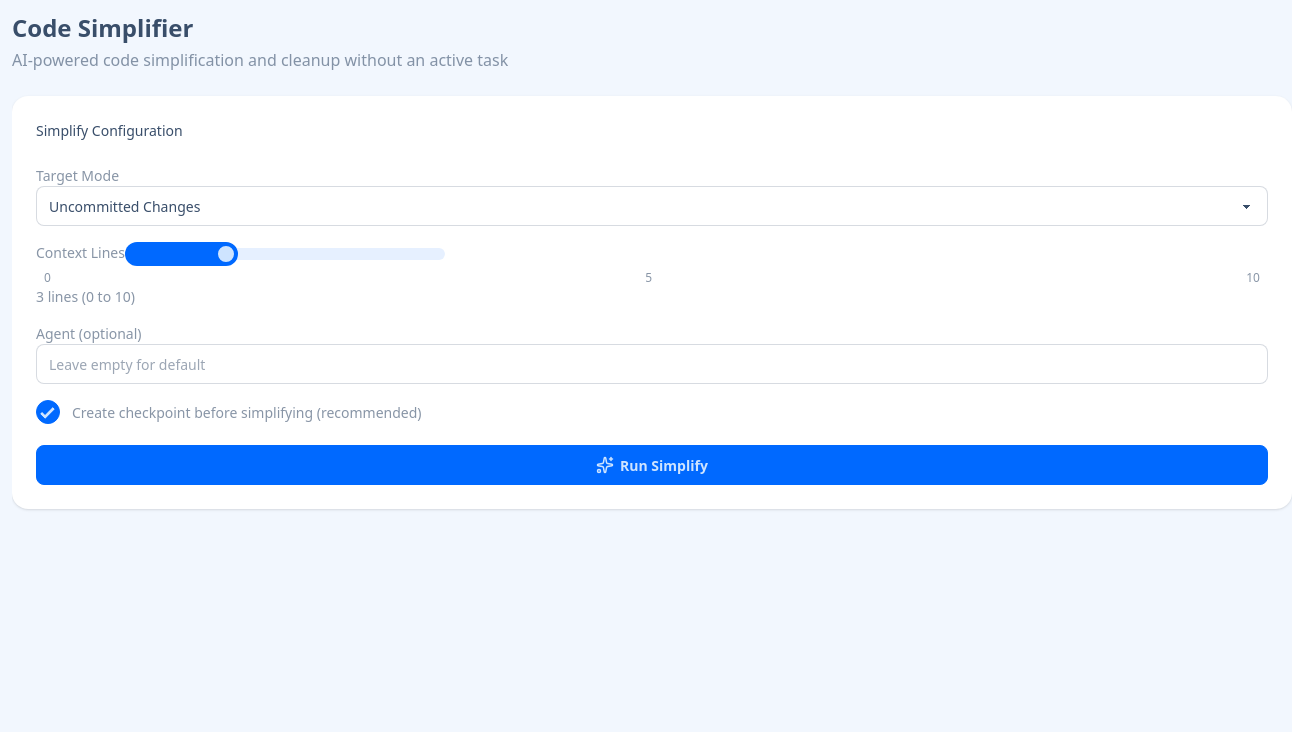
Scenario: Simplify page › shows files textarea when files mode is selected
The width and height of the screenshot is (1292, 732).
Select "Specific Files" in the dropdown. click: (652, 206)
box: [36, 186, 1268, 226]
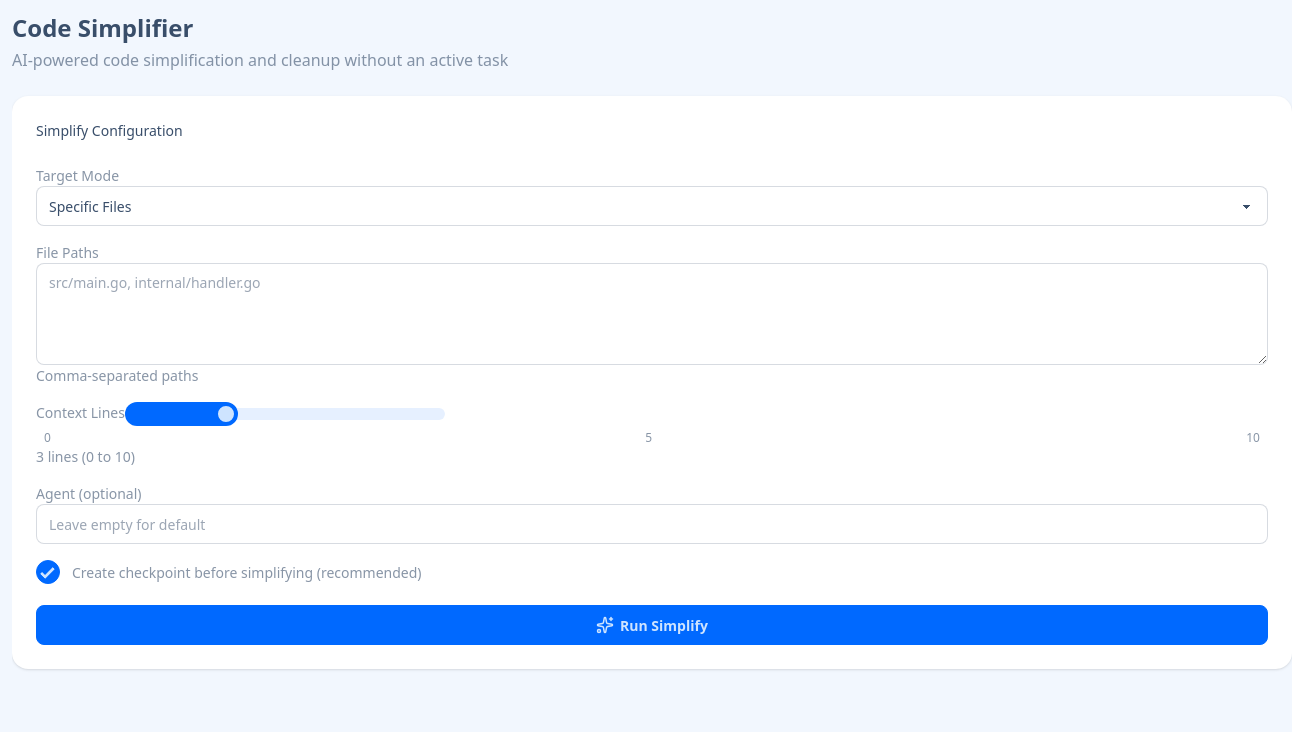
Check: the text box with placeholder "src/main.go, internal/handler.go" is shown, box [36, 263, 1268, 365]
